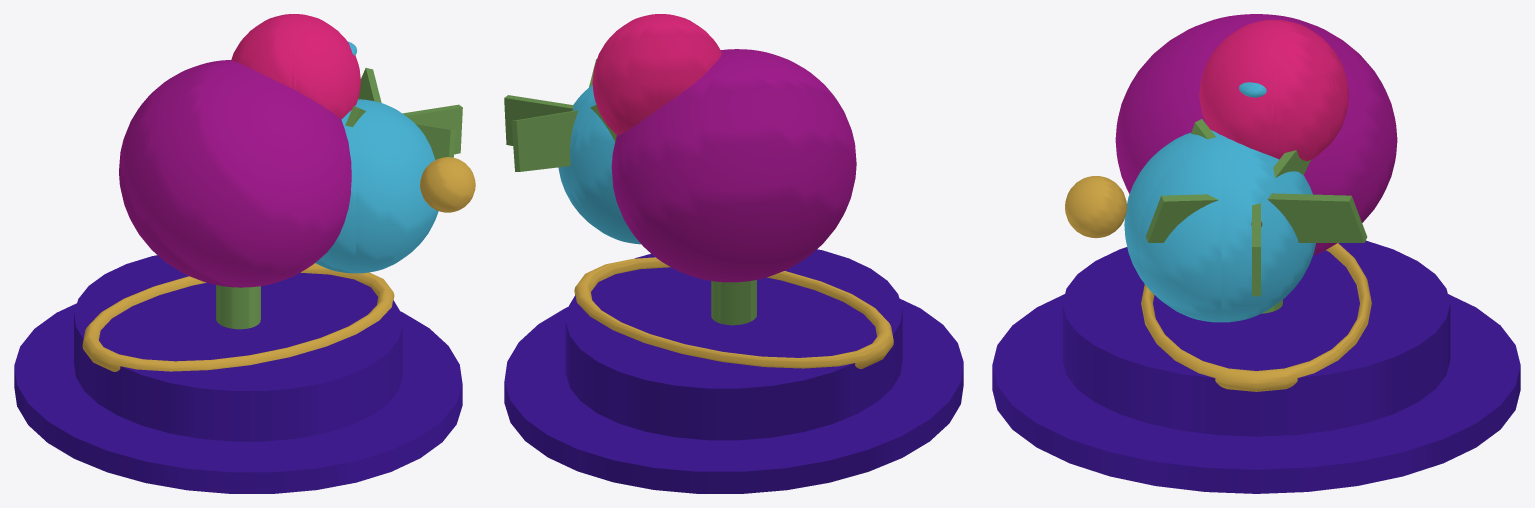
The model's file is 0101_植物图鉴_番茄.glb.
3 views of the same model, side by side, from view 1: azimuth 30°, elevation 25°; view 2: azimuth 150°, elevation 25°; view 3: azimuth 270°, elevation 25° (orthographic). The views are drawn at different scales.
Visible parts, largest first — view 1: card_0101; view 2: card_0101; view 3: card_0101.
Boxes of the visible parts, box(x1,y1,x2,y2) form: card_0101: box(14, 14, 475, 493); card_0101: box(504, 14, 963, 493); card_0101: box(992, 14, 1520, 493).
Bounding box in the file's own units: 1.22 × 1 × 1.2.
